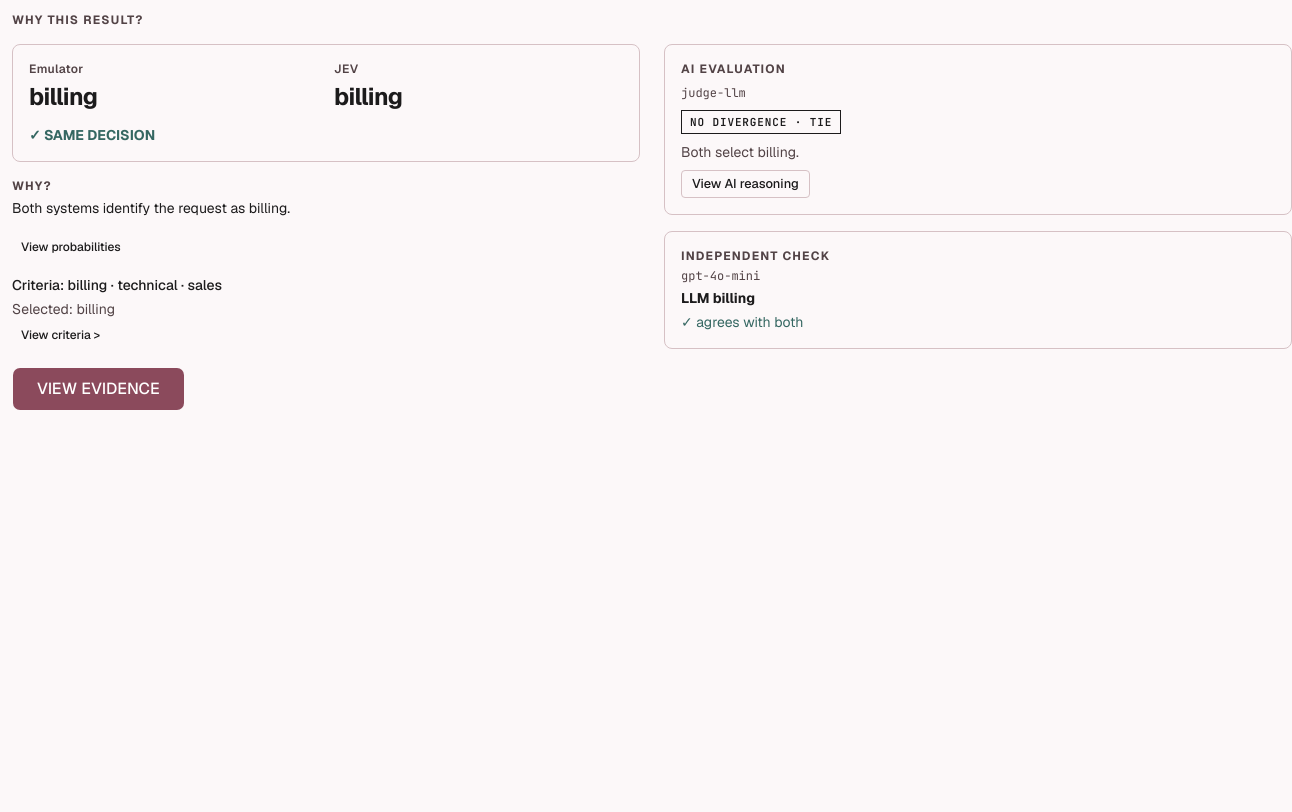
it: WhyView — §33 choice bars disclosure (B2, §38) › reveals the choice bars on demand and closes them again
Click the button "View probabilities": (71, 247) [12,235,130,259]
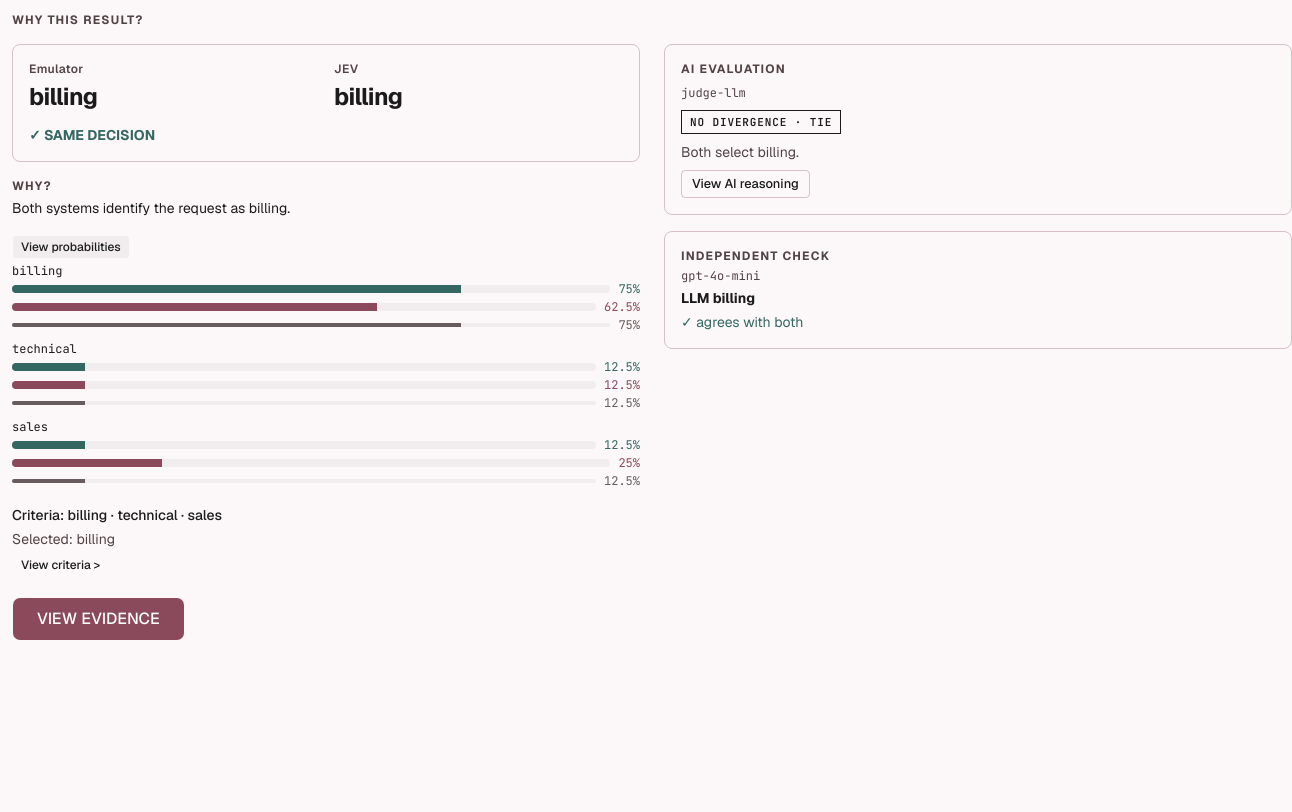
Expected: the element with test id "why-probabilities" is shown, [12,234,640,489]
Expected: the text "75%" is shown 2 times, [618,281,640,297]; [618,317,640,333]
Expected: the text "62.5%" is shown, [604,299,640,315]
Click the button "View probabilities": (71, 247) [12,235,130,259]
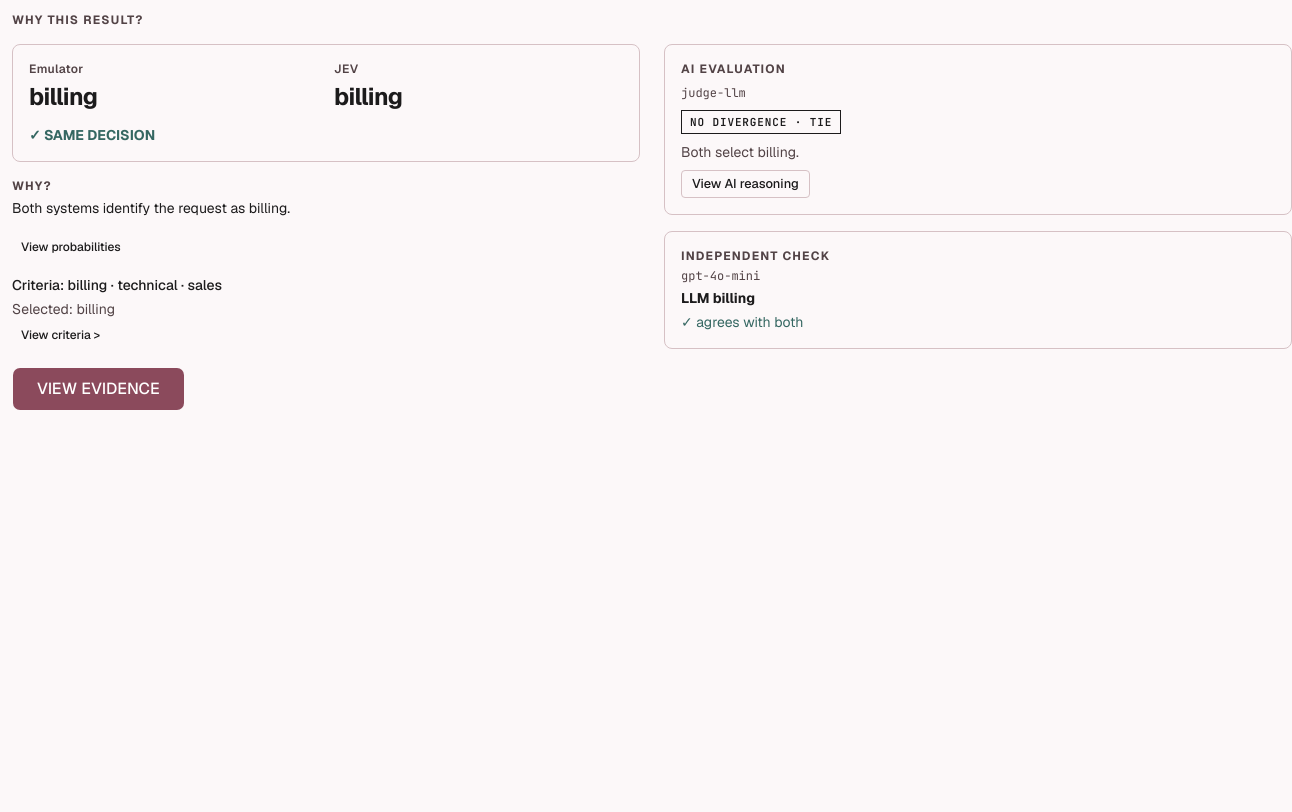
Expected: the picture with test id "choice-bars" is gone
